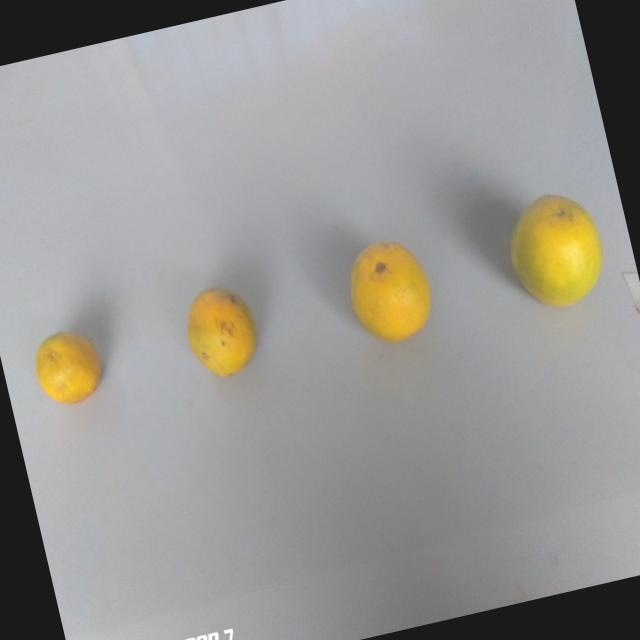agrume: (491, 170, 620, 323), (332, 226, 445, 362), (160, 256, 269, 396), (25, 312, 115, 421)
